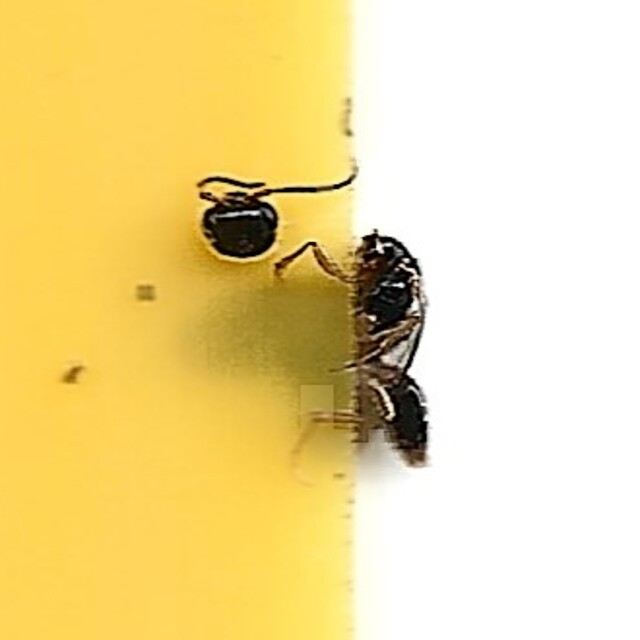Hymenoptera: (194, 165, 446, 475)
